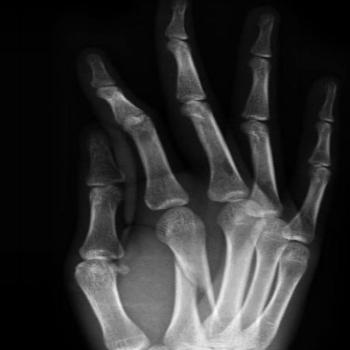Fracture: (162, 256, 202, 286)
